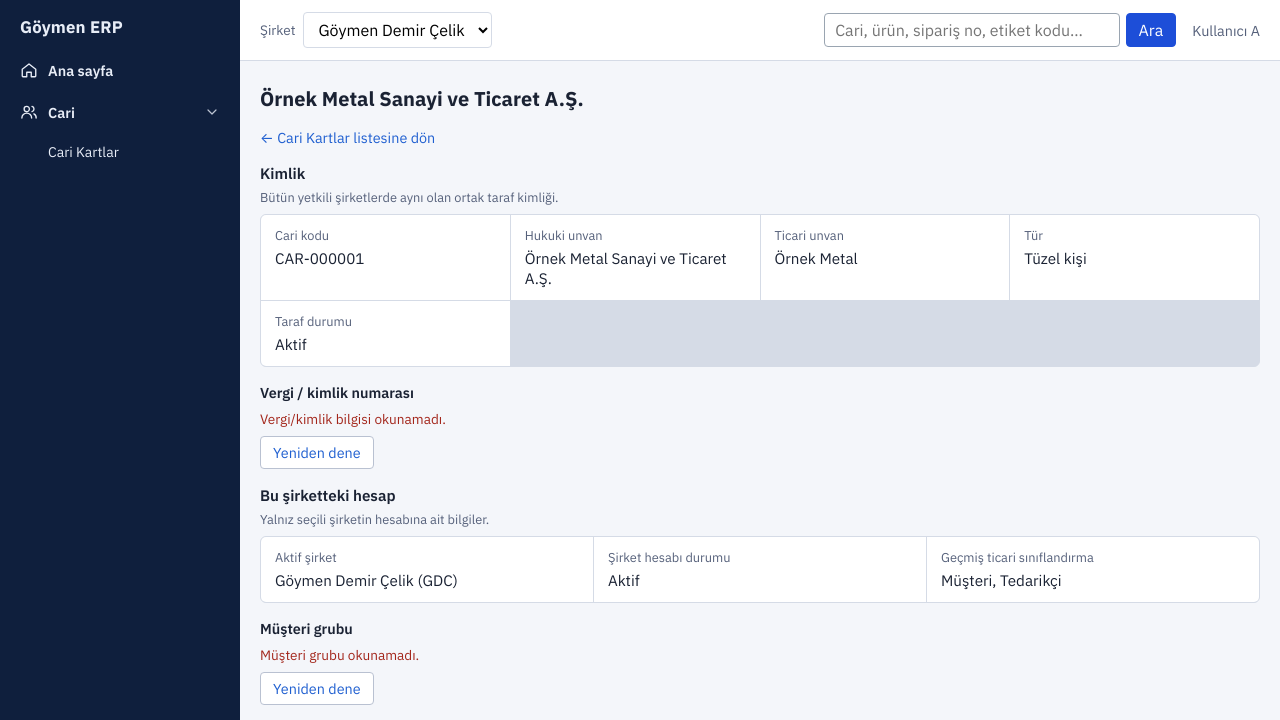
Test case: C-03 context binding (spec §6) › a company switch does not carry the old Cari name into the new context
expect the heading "Örnek Metal Sanayi ve Ticaret A.Ş." is shown: met, box [260,85,584,112]
Select "Göymen Sac Profil" in the dropdown labelled "Şirket": (398, 30) [304,12,492,48]
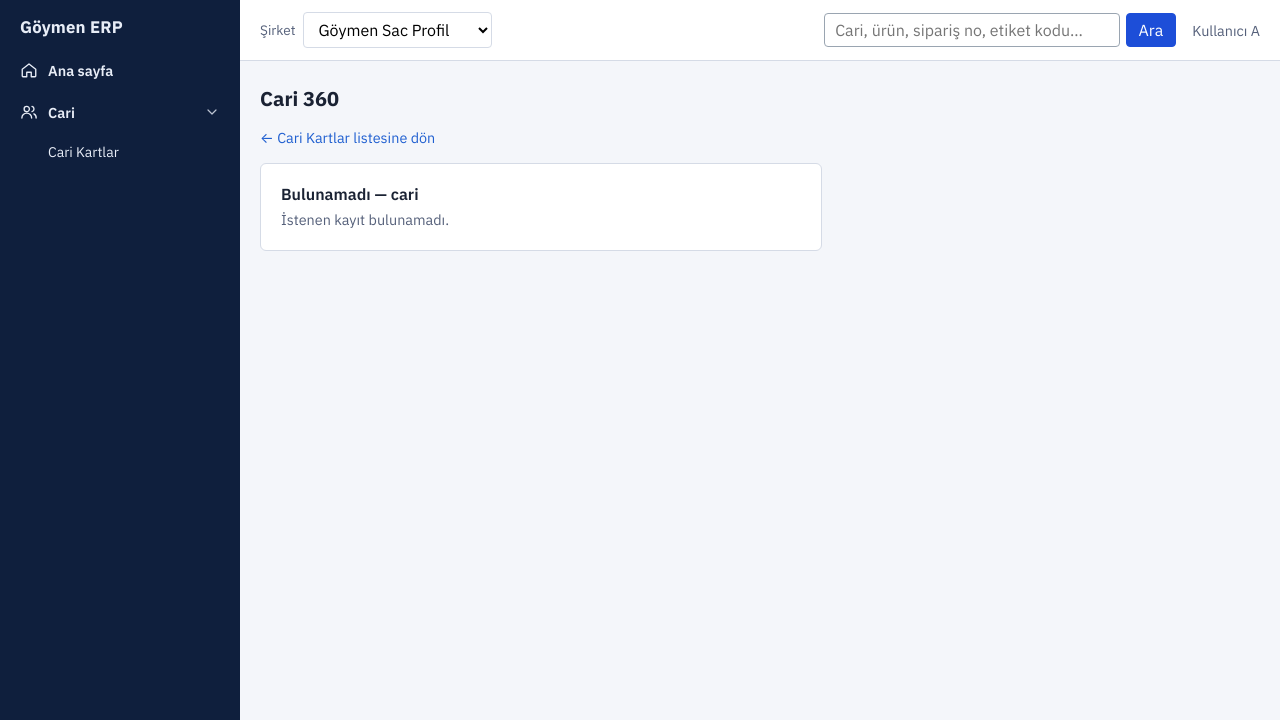
expect the text "Örnek Metal" is gone: met
expect the heading "Cari 360" is shown: met, box [260,85,339,112]
